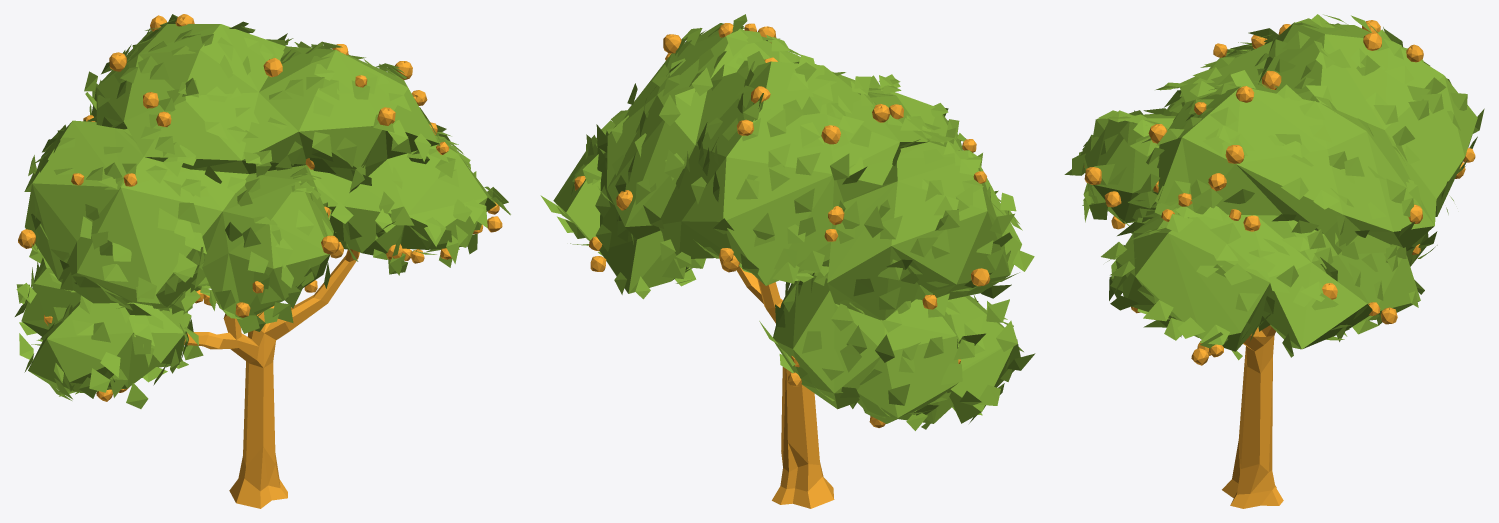
The model's file is SM_Tree_Apple_Ripe_A.fbx.
The picture shows the model from 3 angles, left to right: view 1: azimuth 30°, elevation 25°; view 2: azimuth 150°, elevation 25°; view 3: azimuth 270°, elevation 25°; orthographic projection. The views are drawn at different scales.
Parts seen in each view (by area): view 1: tree-apple-ripe-a; view 2: tree-apple-ripe-a; view 3: tree-apple-ripe-a.
Boxes of the visible parts, x1,y1,x2,y2 form: tree-apple-ripe-a: (15, 14, 510, 508); tree-apple-ripe-a: (540, 14, 1035, 508); tree-apple-ripe-a: (1064, 14, 1484, 508).
Bounding box in the file's own units: 5.33 × 5.2 × 4.27.
